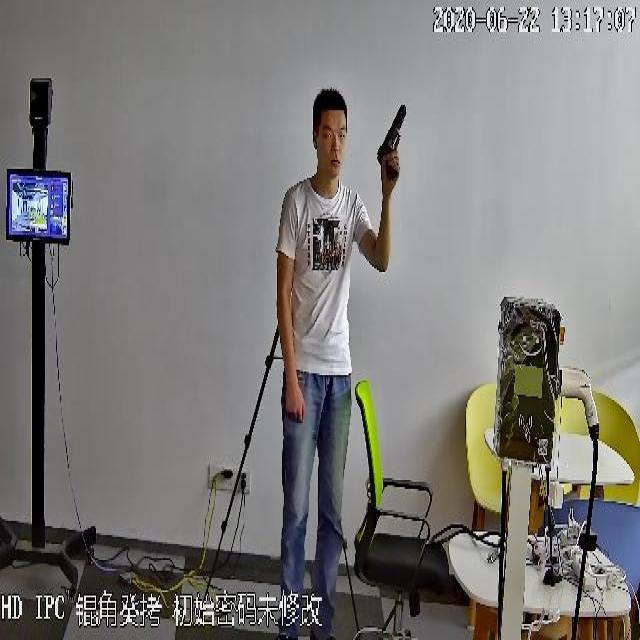pistol: (375, 98, 408, 192)
